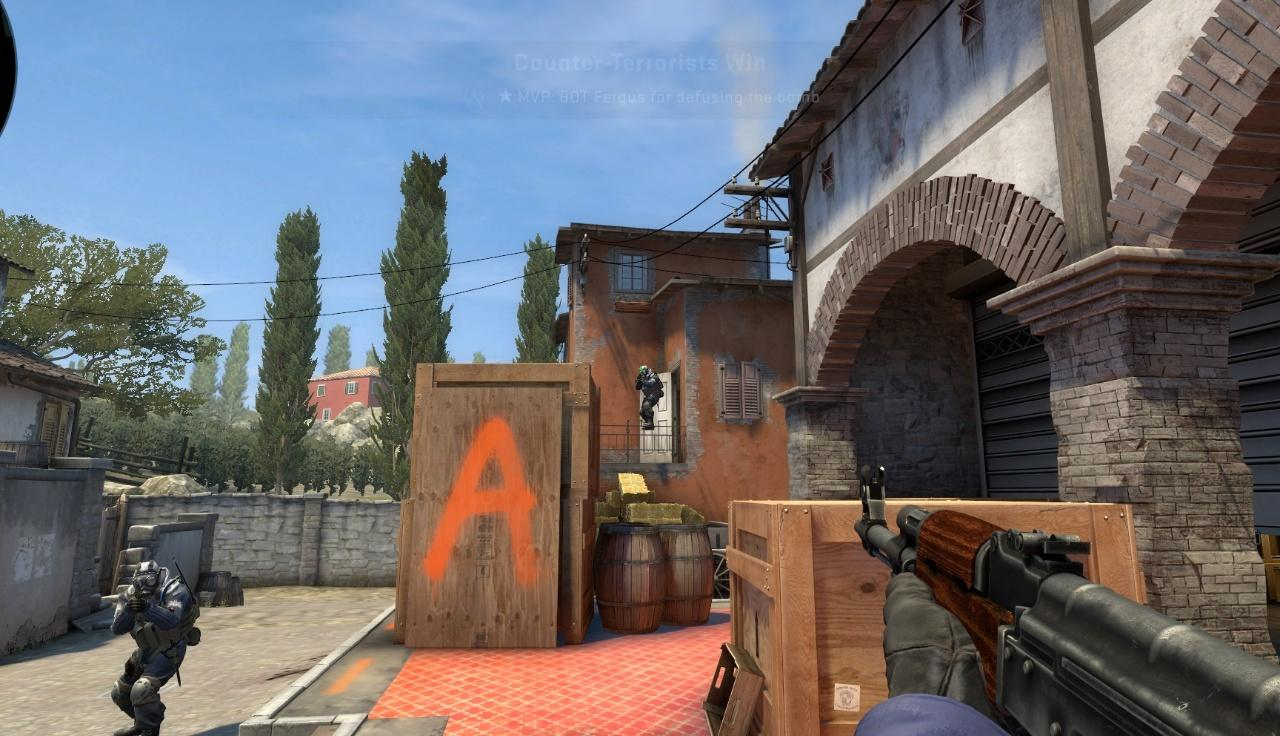ct: (111, 561, 195, 736), (635, 365, 663, 430)
cthead: (134, 561, 159, 598), (640, 366, 648, 377)
rifle: (854, 465, 1280, 736)
